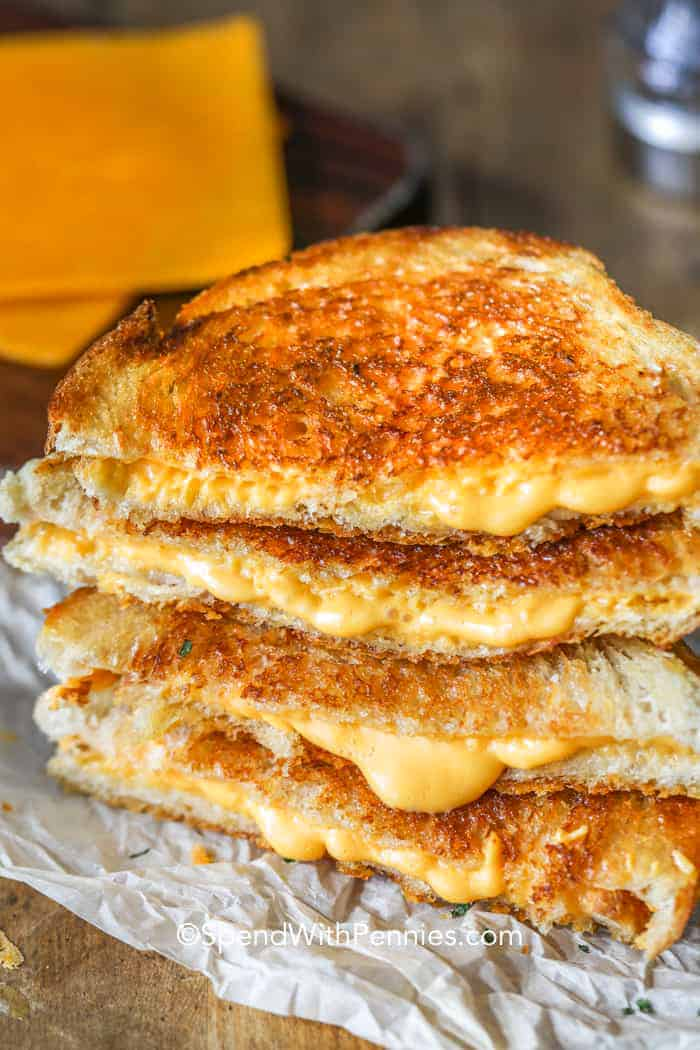cheese: (205, 677, 578, 805), (175, 544, 686, 636)
